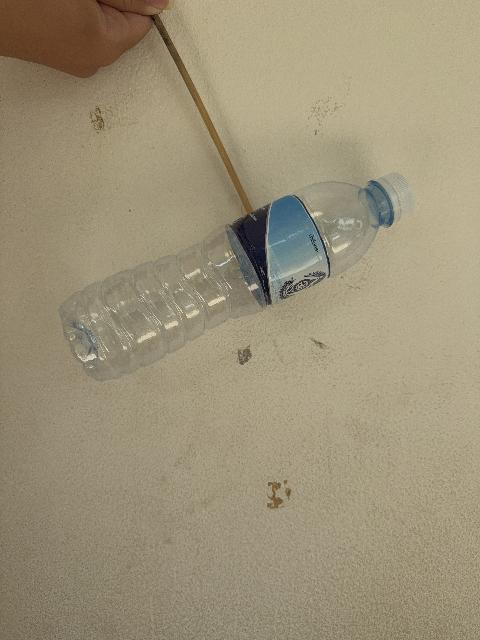bottle: (60, 174, 414, 380)
